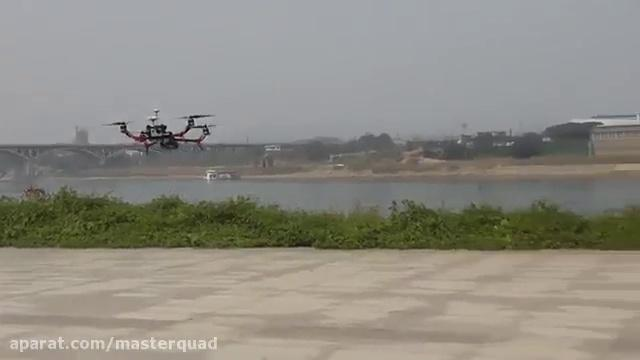drone: (96, 106, 220, 158)
